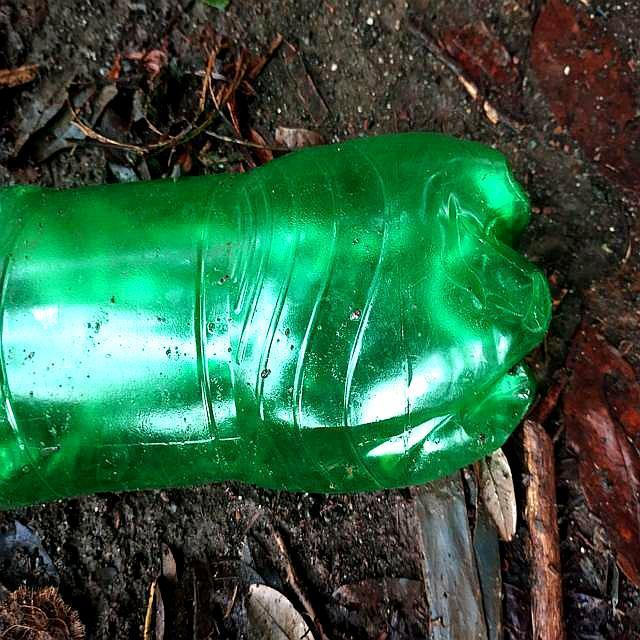Non-biodegradable: (1, 129, 557, 513)
